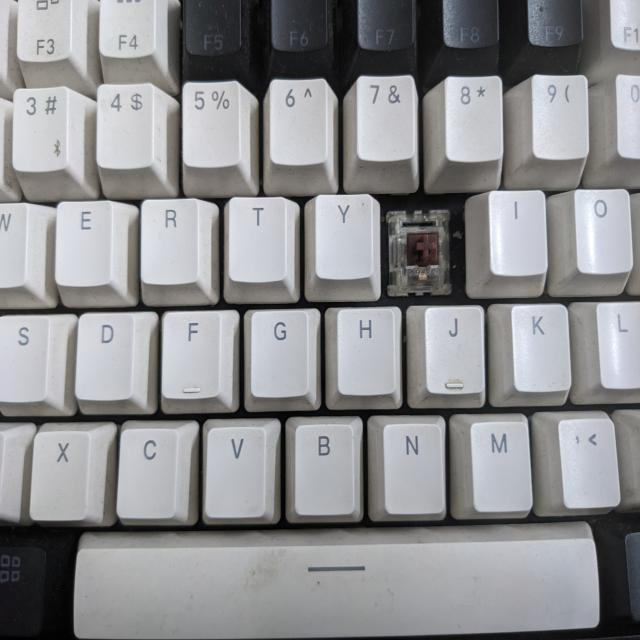C: (389, 203, 459, 288)
